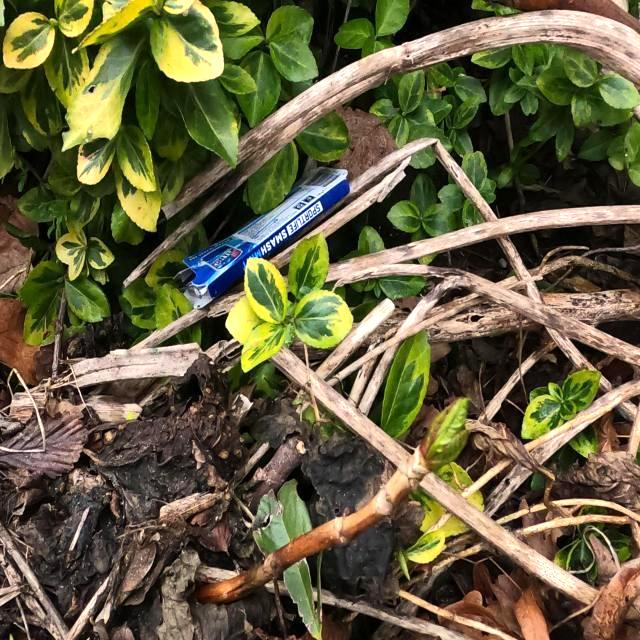Plastic: (180, 163, 350, 309)
